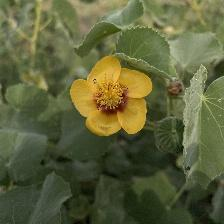indian mallow: (69, 55, 154, 140)
